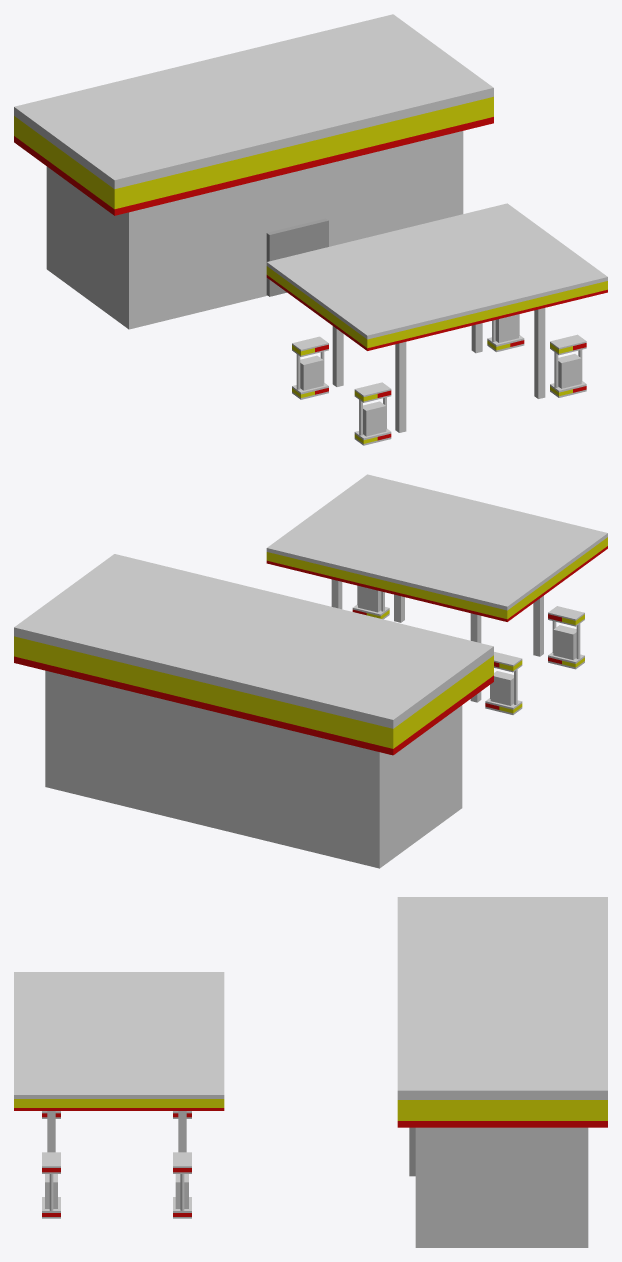
File: GasStation.fbx
3 views of the same model, one above another, from view 1: azimuth 30°, elevation 25°; view 2: azimuth 150°, elevation 25°; view 3: azimuth 270°, elevation 25° (orthographic). The views are drawn at different scales.
Visible parts, largest first — view 1: Building, Pumps; view 2: Building, Pumps; view 3: Building, Pumps.
Boxes of the visible parts, left/top/right/bottom form: Building: left=14, top=14, right=493, bottom=329; Pumps: left=266, top=203, right=607, bottom=445; Building: left=14, top=554, right=493, bottom=868; Pumps: left=266, top=474, right=607, bottom=714; Building: left=397, top=897, right=607, bottom=1247; Pumps: left=14, top=972, right=224, bottom=1218.
Bounding box in the file's own units: 54.57 × 22.16 × 70.77.
